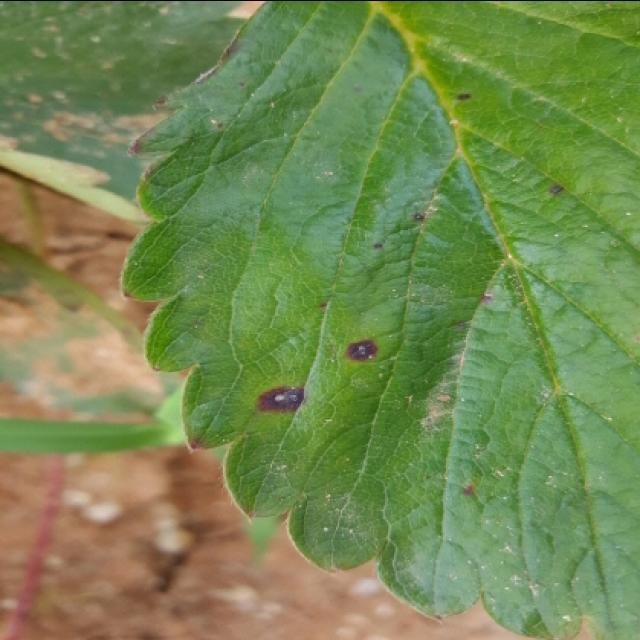Leaf Spot: (120, 0, 638, 638)
